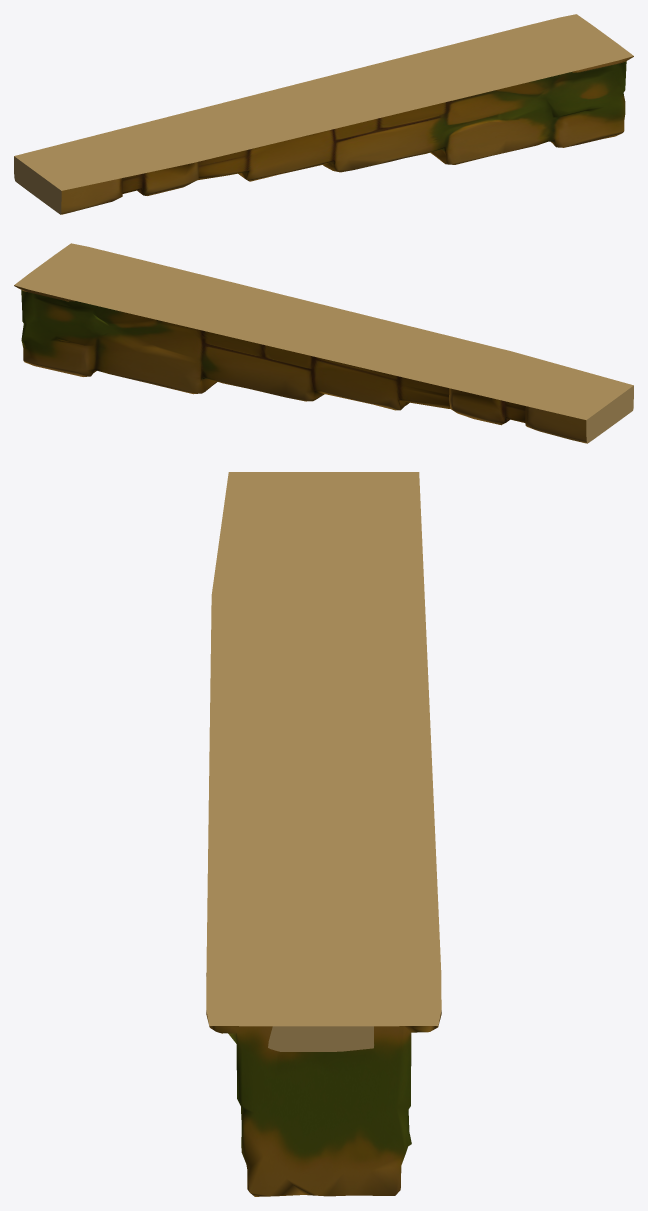
The model's file is fallen_column.glb.
The picture shows the model from 3 angles, top to bottom: view 1: azimuth 30°, elevation 25°; view 2: azimuth 150°, elevation 25°; view 3: azimuth 270°, elevation 25°; orthographic projection. The views are drawn at different scales.
Visible parts, largest first — view 1: gate_mesh; view 2: gate_mesh; view 3: gate_mesh.
Boxes of the visible parts, <box> form: gate_mesh: <box>14,14,633,214</box>; gate_mesh: <box>14,243,633,443</box>; gate_mesh: <box>206,472,441,1196</box>.
Size of the model in its own units: 2.9 by 0.42 by 0.52.
Materials: 2 (1 with a texture image).
